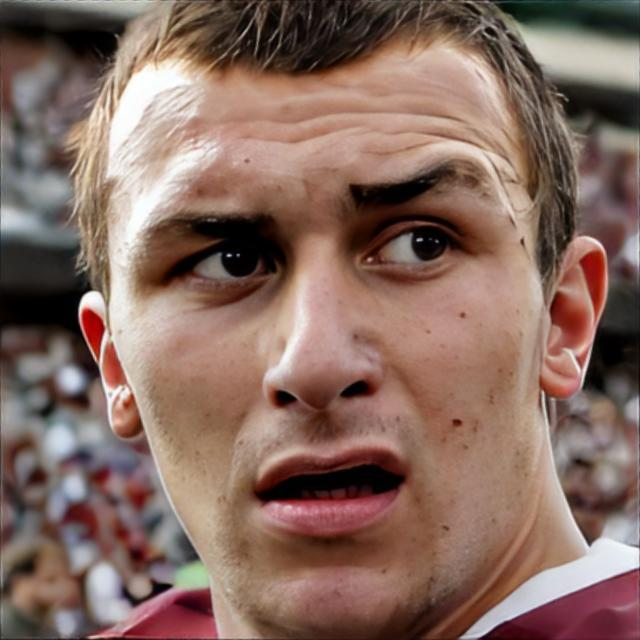disgust: (104, 30, 548, 640)
